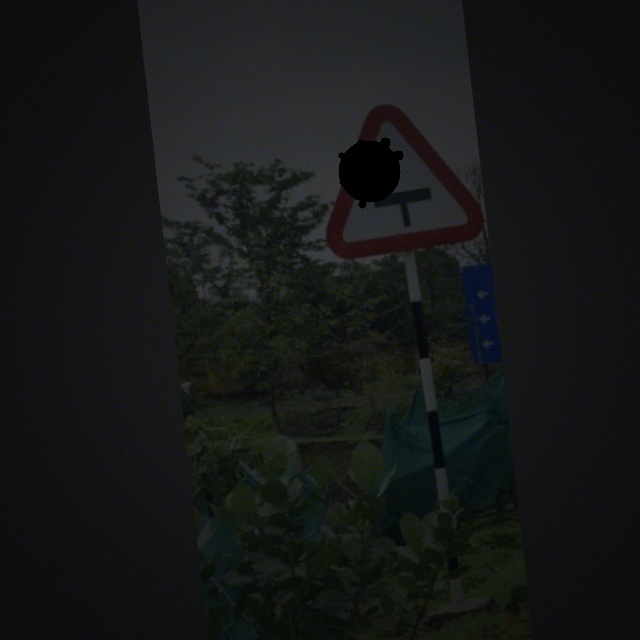T_Intersection: (320, 94, 478, 254)
